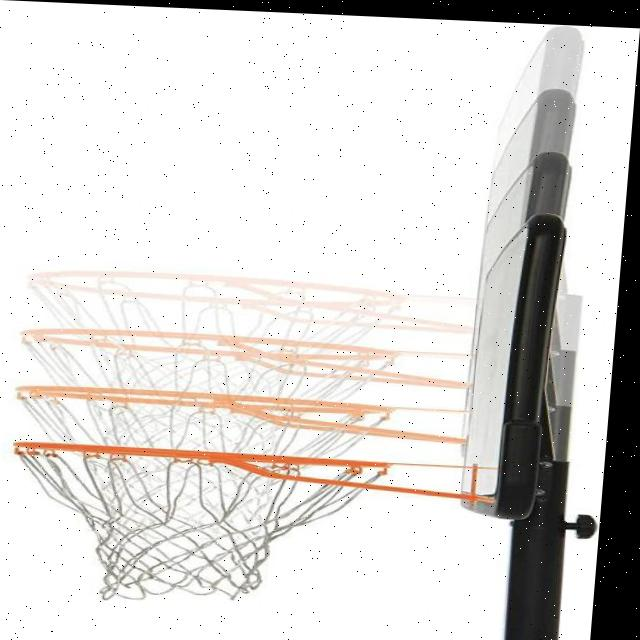hoop: (3, 441, 396, 612)
